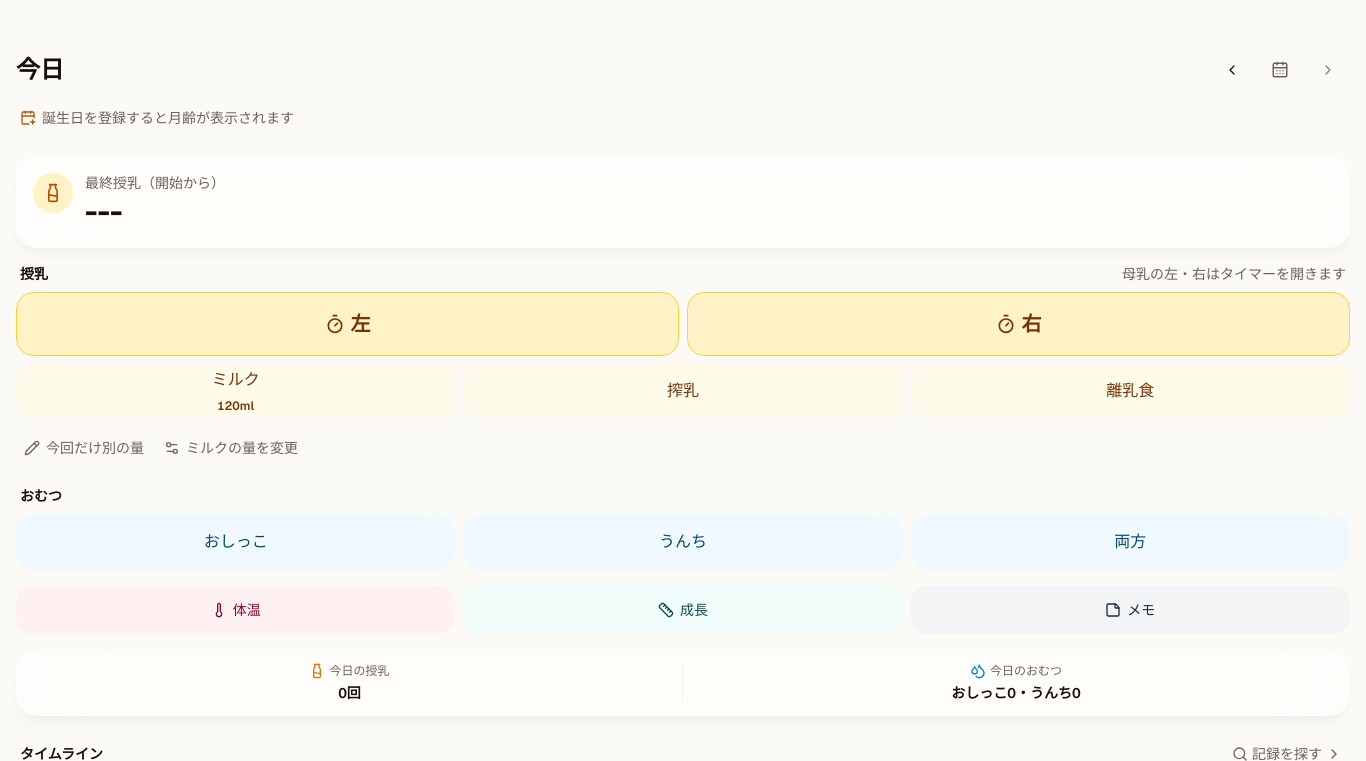
it: BabyDashboard / 日付ナビ fetch の error 握り潰し (B-08) と取得状態の表示 (P2-10) › fetch in-flight 中に Realtime で先着した選択日の行が、fetch 解決後も残る
The width and height of the screenshot is (1366, 761).
Click the button named "前の日" at (1232, 70), box x1=1210 y1=48 x2=1254 y2=92
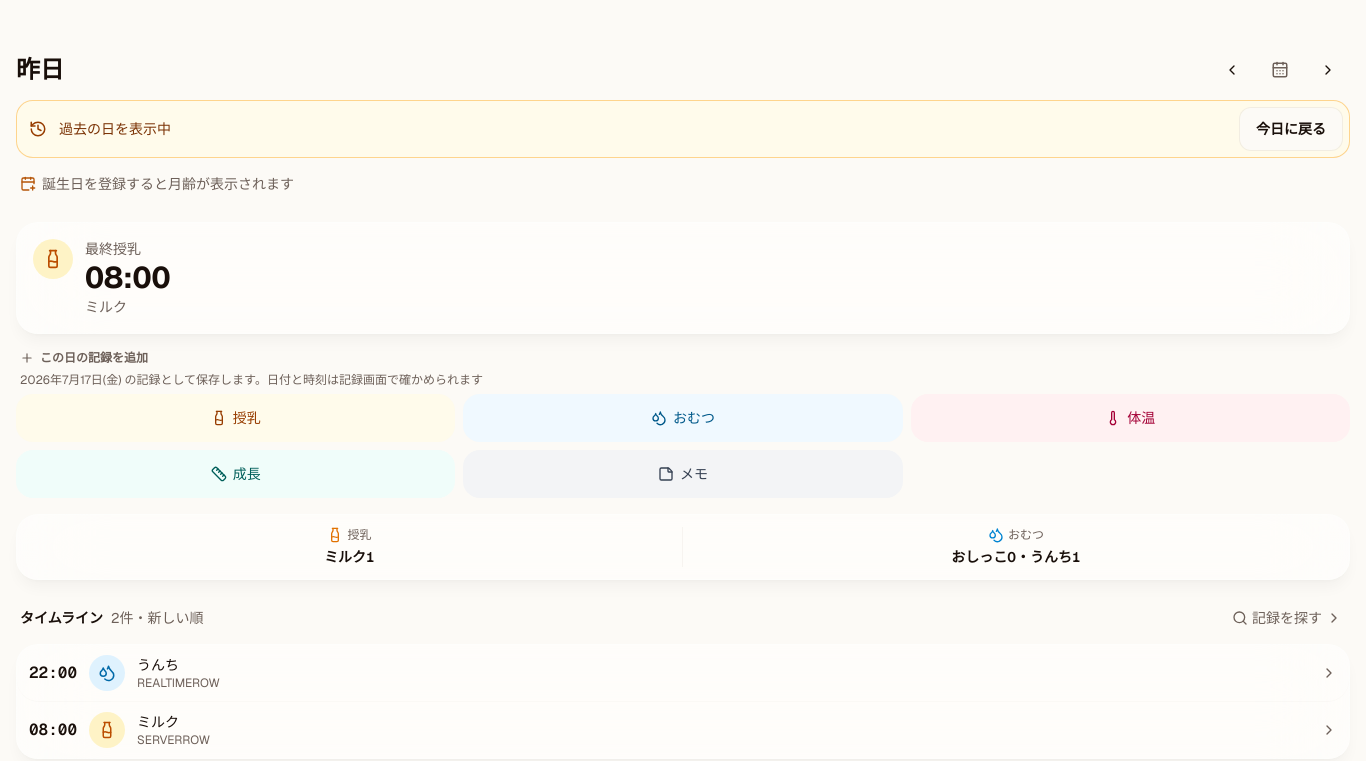
Expected: the element named "記録を読み込み中" is shown, x1=16 y1=644 x2=1350 y2=758
Now the text "SERVERROW" is shown, box x1=137 y1=732 x2=210 y2=748
Now the text "REALTIMEROW" is shown, box x1=137 y1=674 x2=220 y2=690
